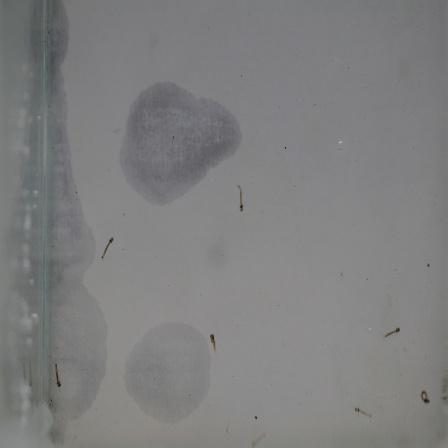Jentik-Nyamuk: (233, 181, 251, 219), (49, 358, 67, 391), (349, 404, 375, 425), (98, 235, 117, 261), (381, 323, 403, 342), (419, 388, 435, 408), (207, 330, 219, 355)
